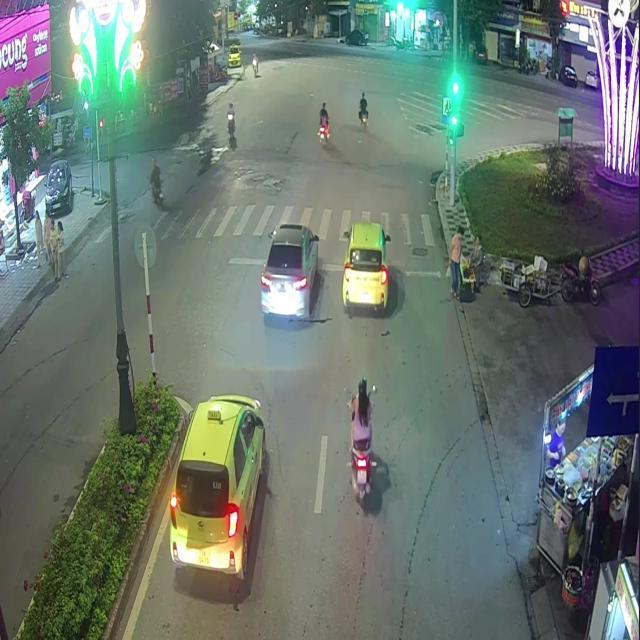car: (159, 394, 270, 588), (261, 213, 321, 323), (341, 221, 389, 313)
green_light: (447, 77, 460, 131)
stop_line: (228, 256, 440, 277)
